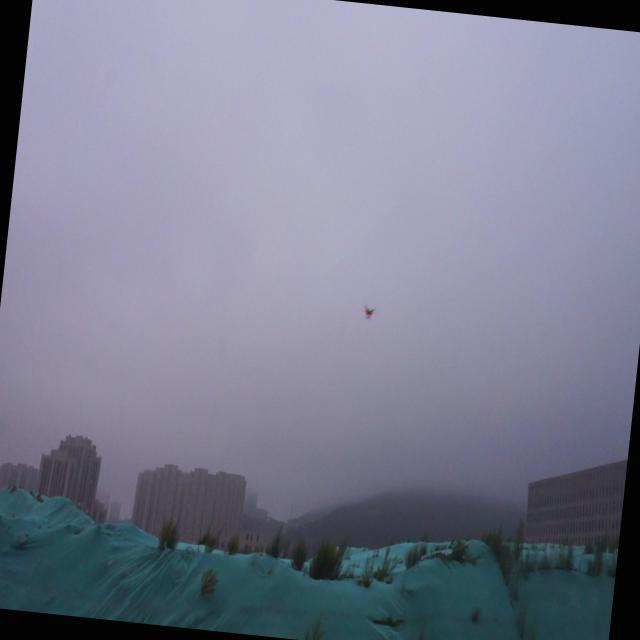drone: (358, 300, 379, 328)
